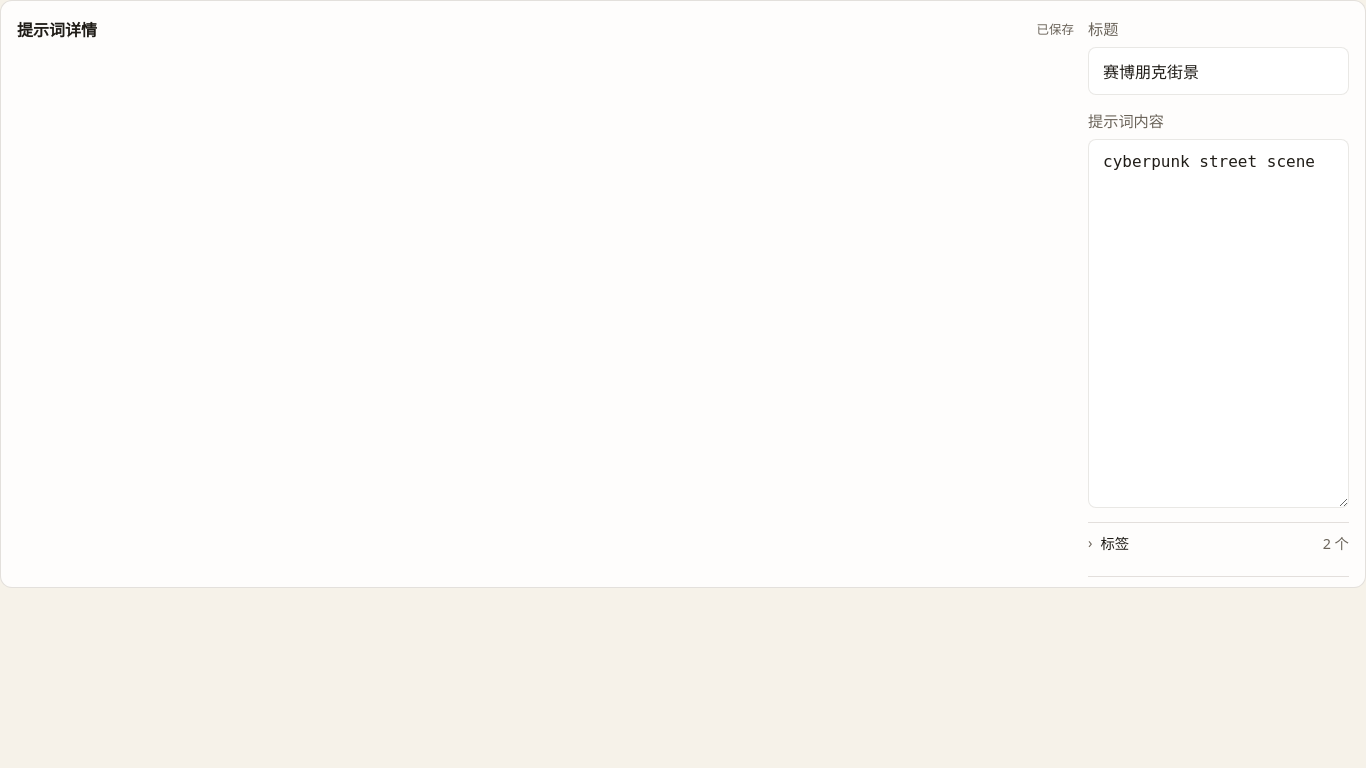
Test: PromptEditor › offers retry only for the latest failed draft
Replace the text in the text box labelled "提示词内容" with "retry this" at (1218, 323), box [1088, 139, 1349, 508]
Wait 800 ms
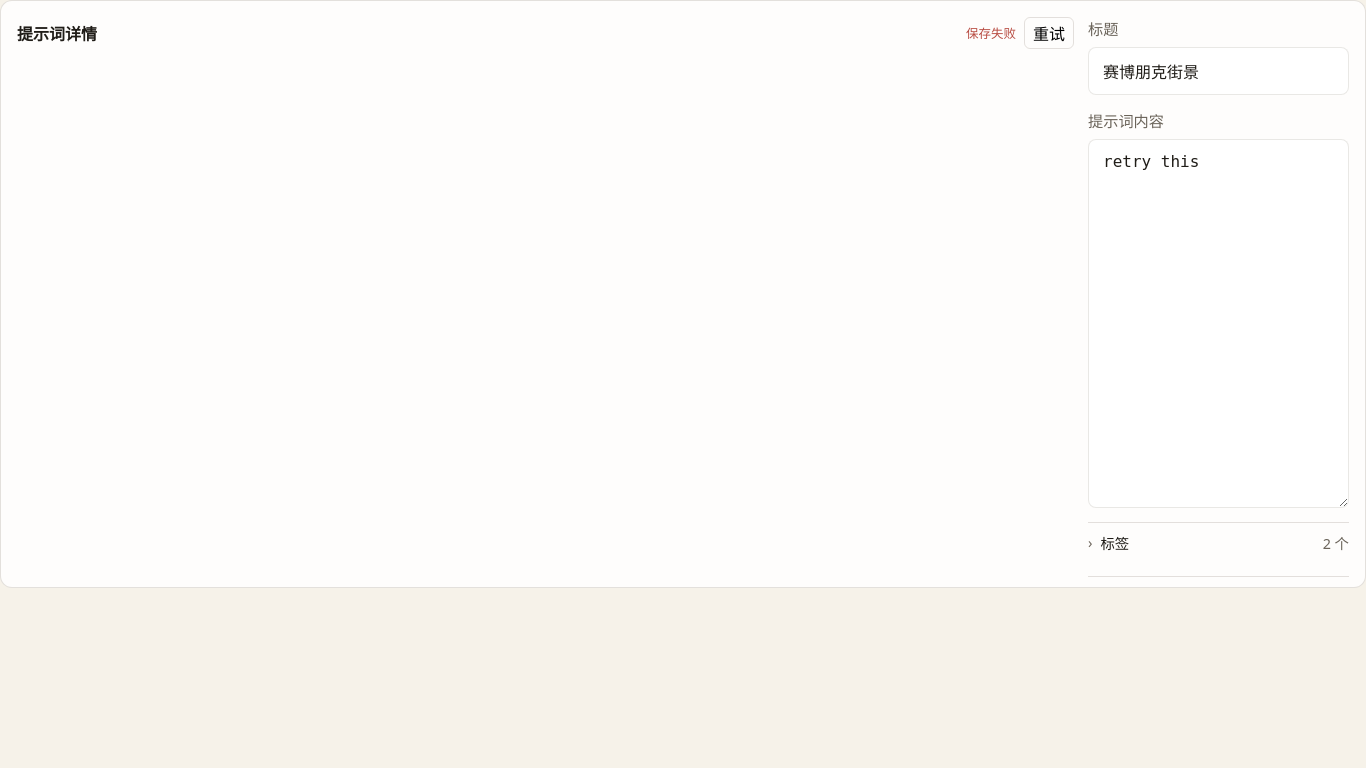
Expected: the button "重试" is shown, [1024, 17, 1074, 49]
Replace the text in the text box labelled "提示词内容" with "newer local edit" at (1218, 323), box [1088, 139, 1349, 508]
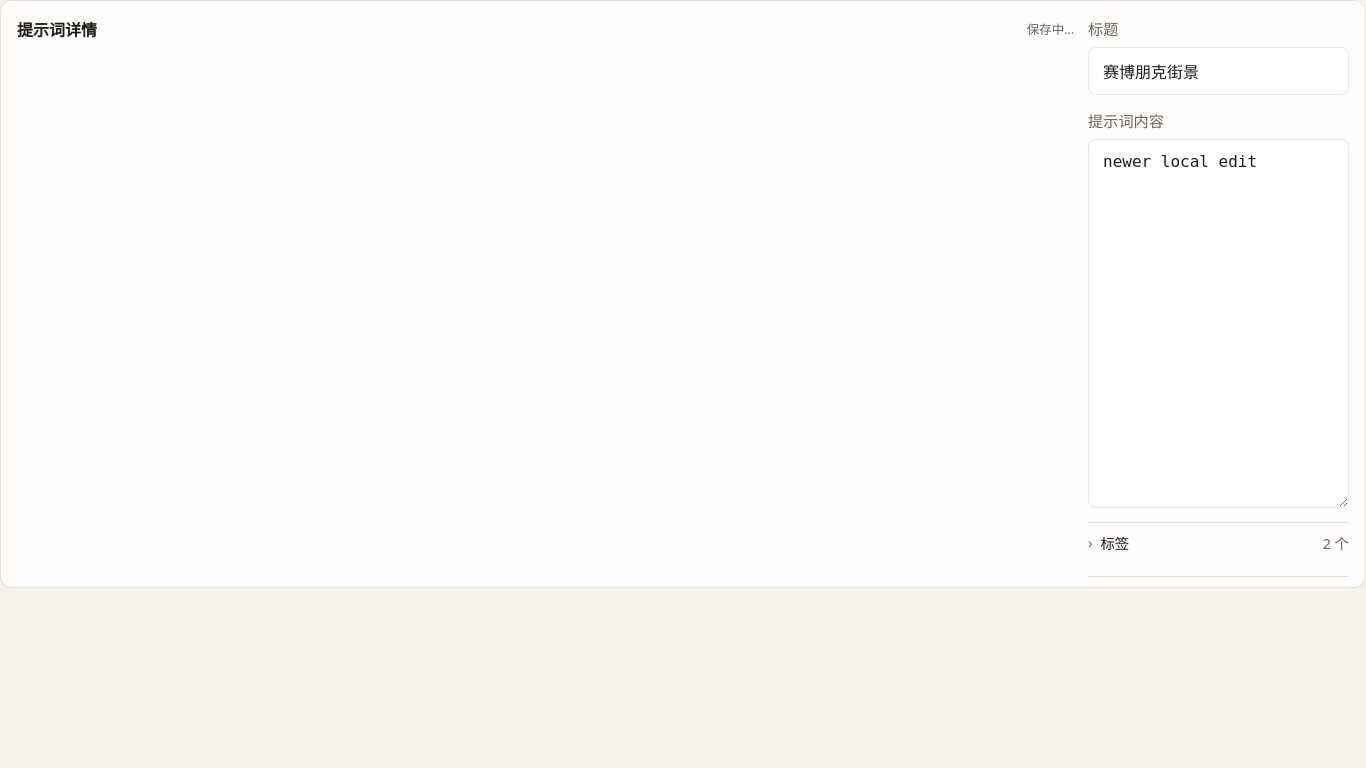
Expected: the button "重试" is gone
